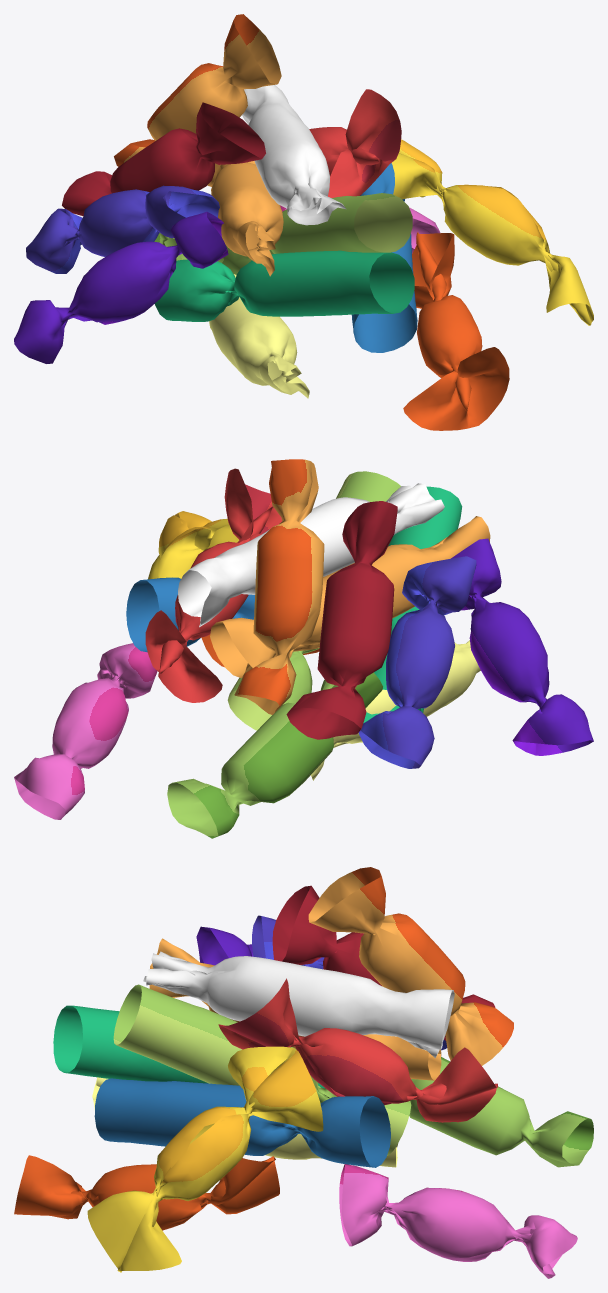
The model's file is caramelos.001.fbx.
The picture shows the model from 3 angles, top to bottom: view 1: azimuth 30°, elevation 25°; view 2: azimuth 150°, elevation 25°; view 3: azimuth 270°, elevation 25°; orthographic projection. The views are drawn at different scales.
Visible parts, largest first — view 1: caramelos.001; view 2: caramelos.001; view 3: caramelos.001.
Part boxes in pixels (x1=…): caramelos.001: x1=14, y1=14, x2=593, y2=430; caramelos.001: x1=14, y1=459, x2=593, y2=838; caramelos.001: x1=14, y1=867, x2=593, y2=1278.
Bounding box in the file's own units: 415 × 257 × 401.
